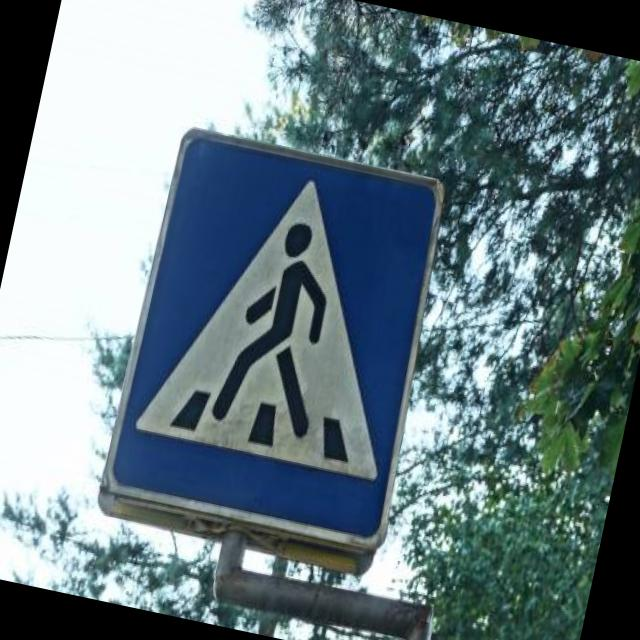crosswalk: (86, 106, 472, 564)
